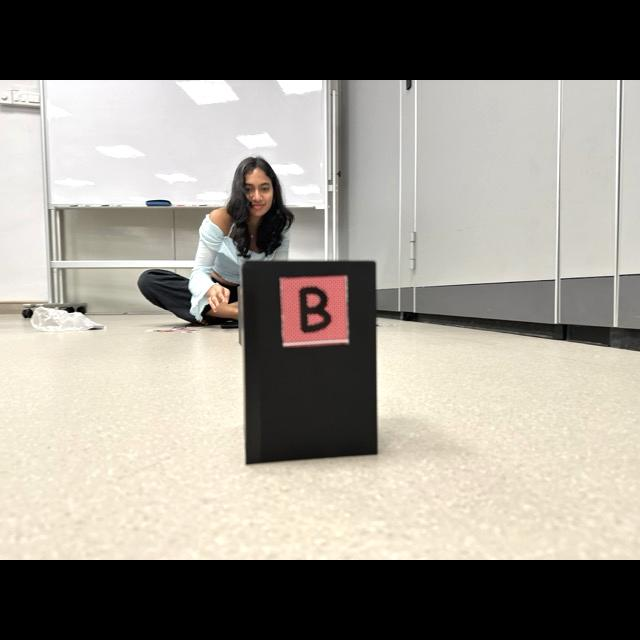B: (299, 287, 332, 333)
